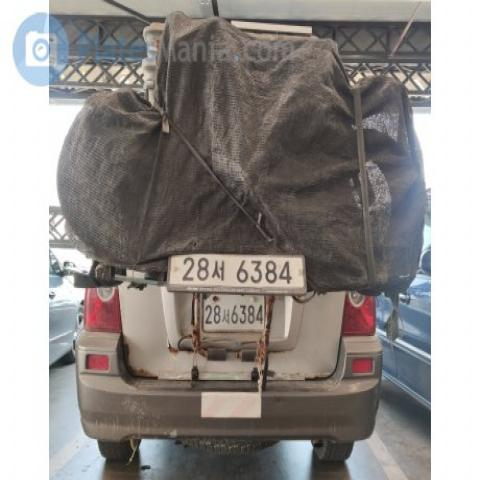LP: (166, 244, 312, 298)
